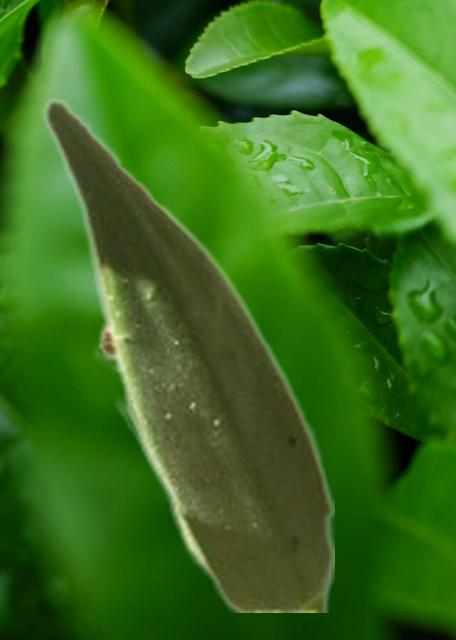okra: (41, 95, 333, 611)
